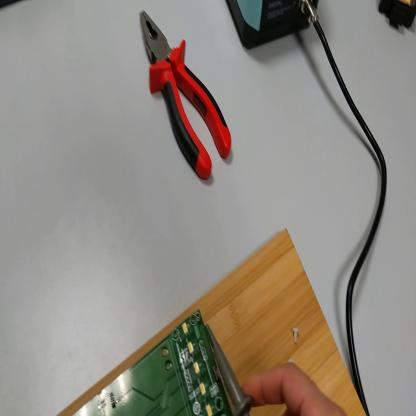hand: (244, 364, 345, 416)
low voltage board: (77, 311, 234, 415)
oscilloscope probe tip: (208, 326, 256, 415)
pliers: (140, 12, 233, 182)
welder base: (380, 2, 416, 34)
welder station: (226, 1, 320, 50)
working area: (58, 224, 367, 414)
